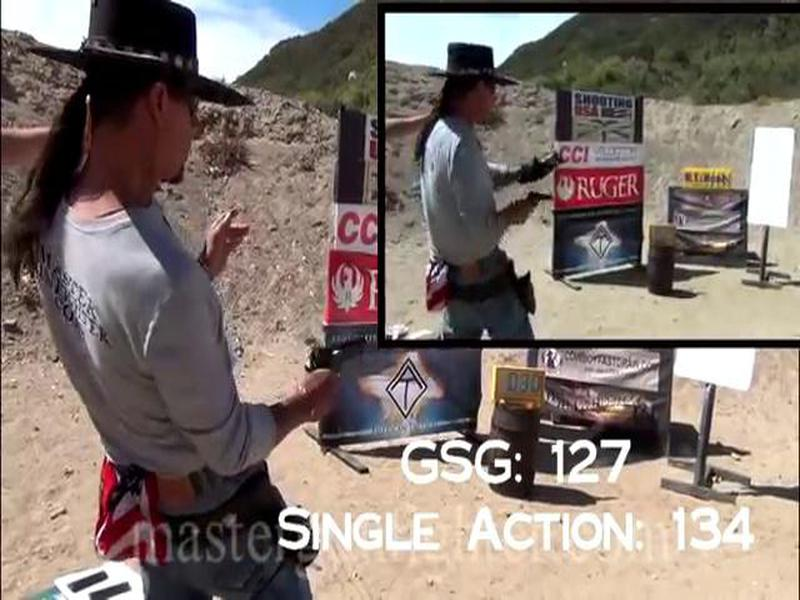Pistola: (294, 334, 373, 411)
